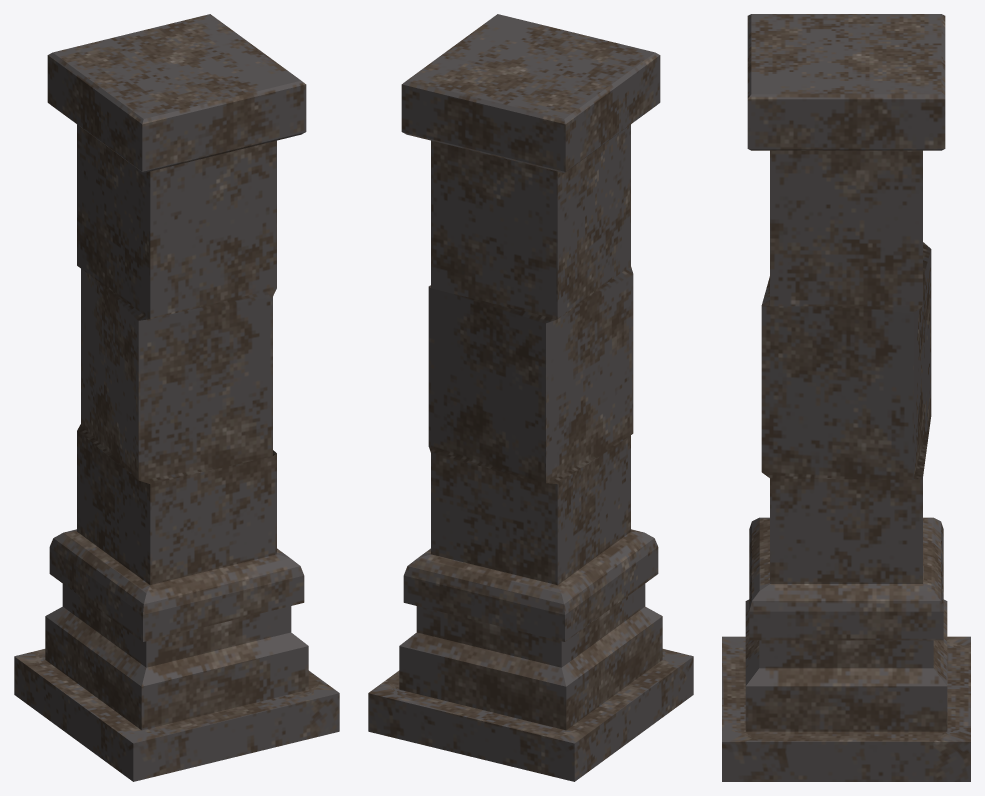
Rendered from colum.glb.
3 views of the same model, side by side, from view 1: azimuth 30°, elevation 25°; view 2: azimuth 150°, elevation 25°; view 3: azimuth 270°, elevation 25° (orthographic). The views are drawn at different scales.
Parts seen in each view (by area): view 1: colum_geo; view 2: colum_geo; view 3: colum_geo.
Boxes of the visible parts, x1,y1,x2,y2 form: colum_geo: (14,14,339,781); colum_geo: (368,14,693,781); colum_geo: (722,14,970,781).
Bounding box in the file's own units: 0.9377 × 2.81 × 0.9377.
Materials: 1 (1 with a texture image).
